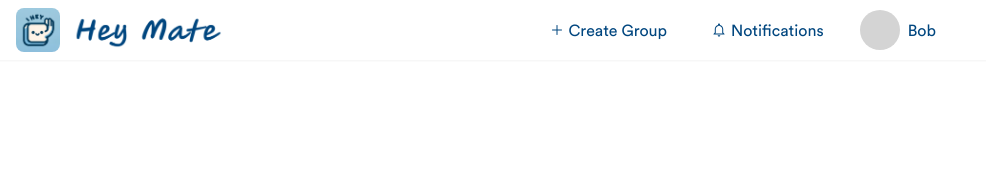
Navbar component › Render correctly when user is logged in
Expected: the text "Create Group" is shown, [569,16,667,44]
Expected: the text "Notifications" is shown, [731,16,824,44]
// click avatar, dropdown should be displayed
Click the element showing "Bob" at {"x": 902, "y": 30}, box [860,12,944,48]
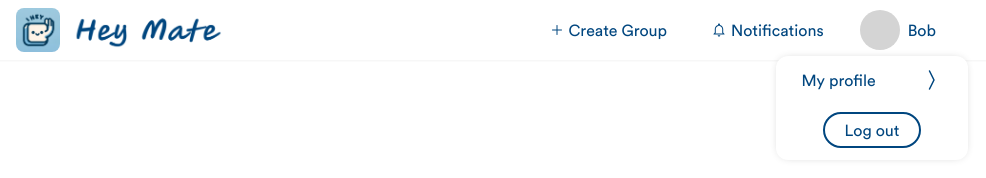
Result: the text "My profile" is shown at [801,68,876,92]
Result: the button "Log out" is shown at [822,112,921,148]
